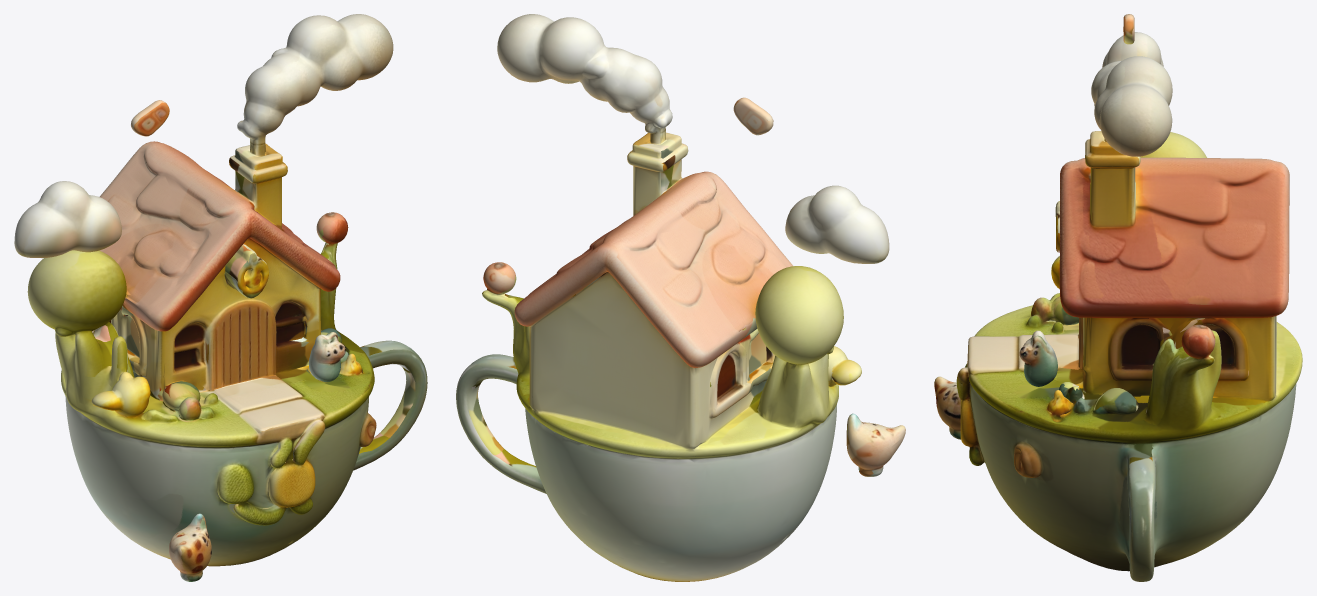
File: n5cybw6x.glb
3 renders of one model, left to right at view 1: azimuth 30°, elevation 25°; view 2: azimuth 150°, elevation 25°; view 3: azimuth 270°, elevation 25°, orthographic. The views are drawn at different scales.
Visible parts, largest first — view 1: Miniature House Diorama; view 2: Miniature House Diorama; view 3: Miniature House Diorama.
Part boxes in pixels (bbox=[...]): Miniature House Diorama: bbox=[14, 14, 427, 581]; Miniature House Diorama: bbox=[456, 14, 905, 581]; Miniature House Diorama: bbox=[934, 14, 1302, 581].
Bounding box in the file's own units: 0.1571 × 0.18 × 0.1124.
Materials: 1 (1 with a texture image).
